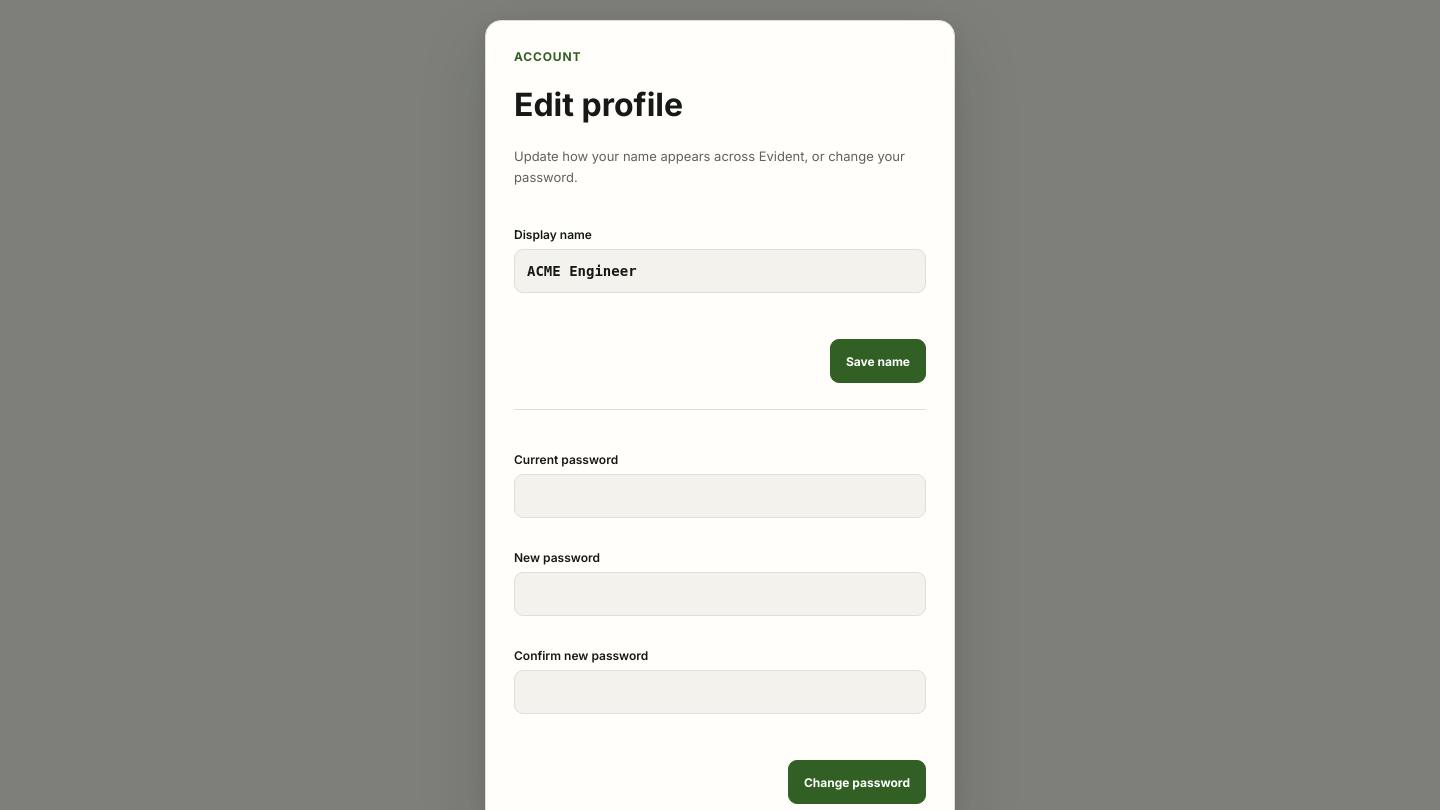
Test case: ProfileDialog › shows a local error when the new password confirmation does not match
Type "correct-horse-battery" into the password field labelled "Current password".
click(720, 496); type("correct-horse-battery")  # box [514,474,926,518]
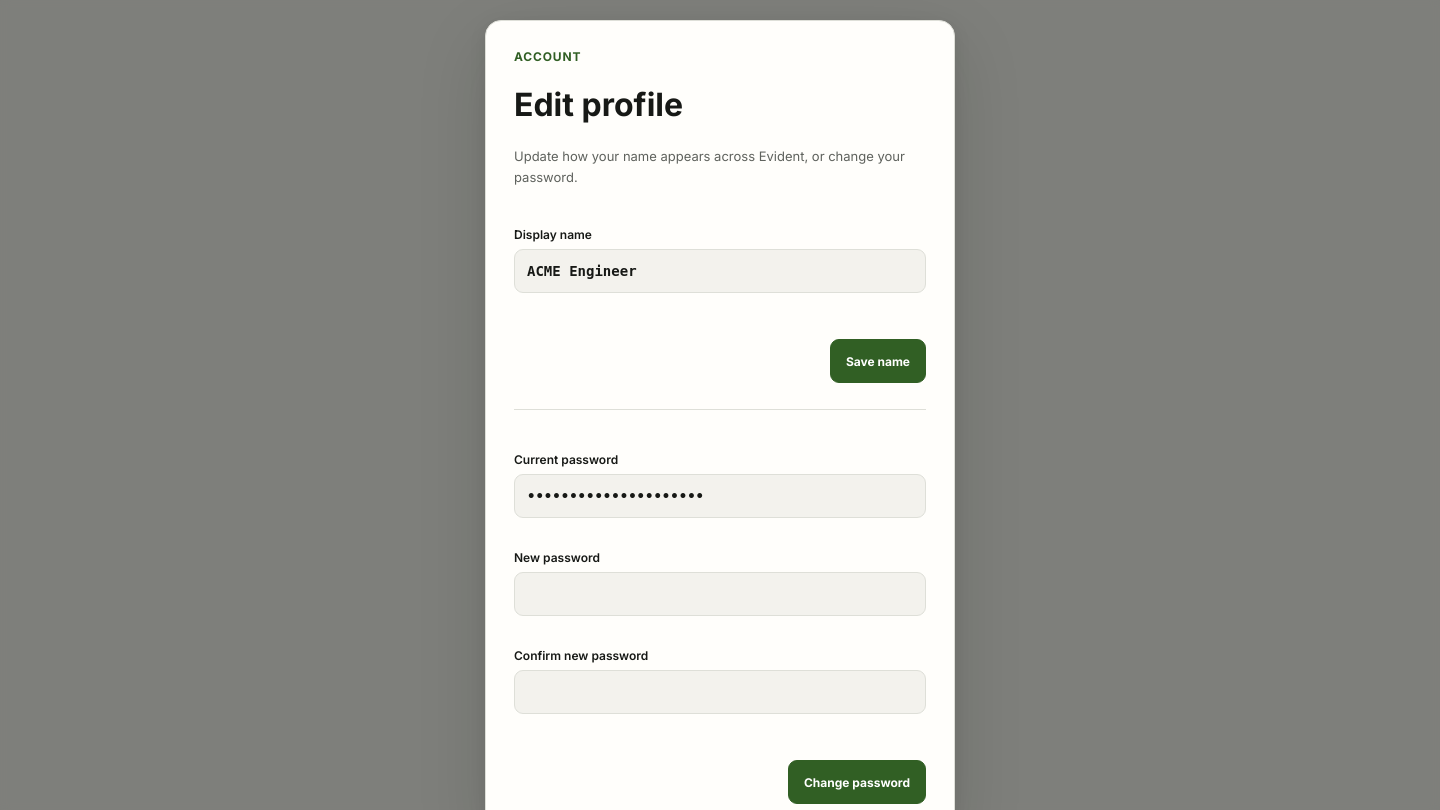
Type "new-correct-horse-battery" into the password field labelled "New password".
click(720, 594); type("new-correct-horse-battery")  # box [514,572,926,616]
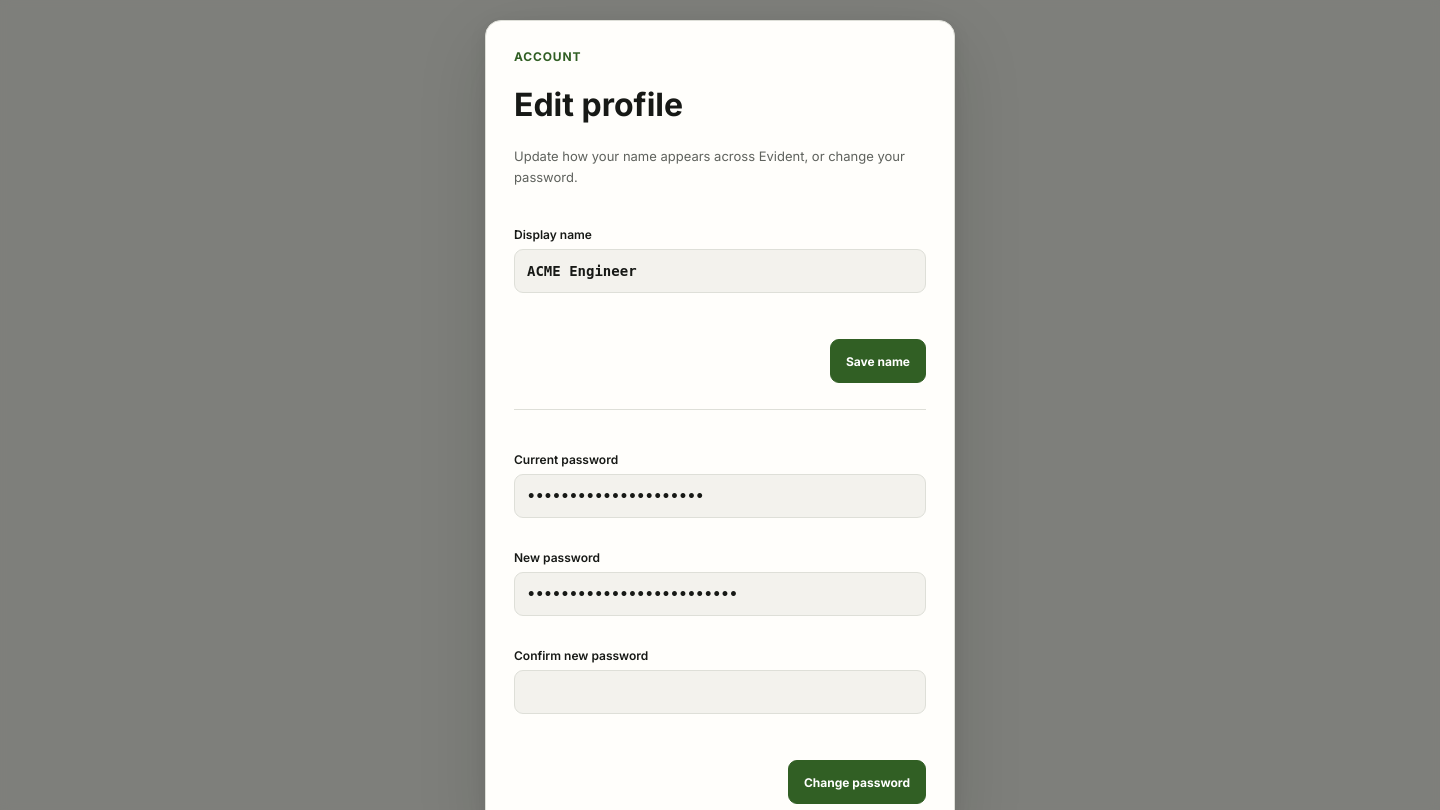
Type "does-not-match" into the password field labelled "Confirm new password".
click(720, 692); type("does-not-match")  # box [514,670,926,714]
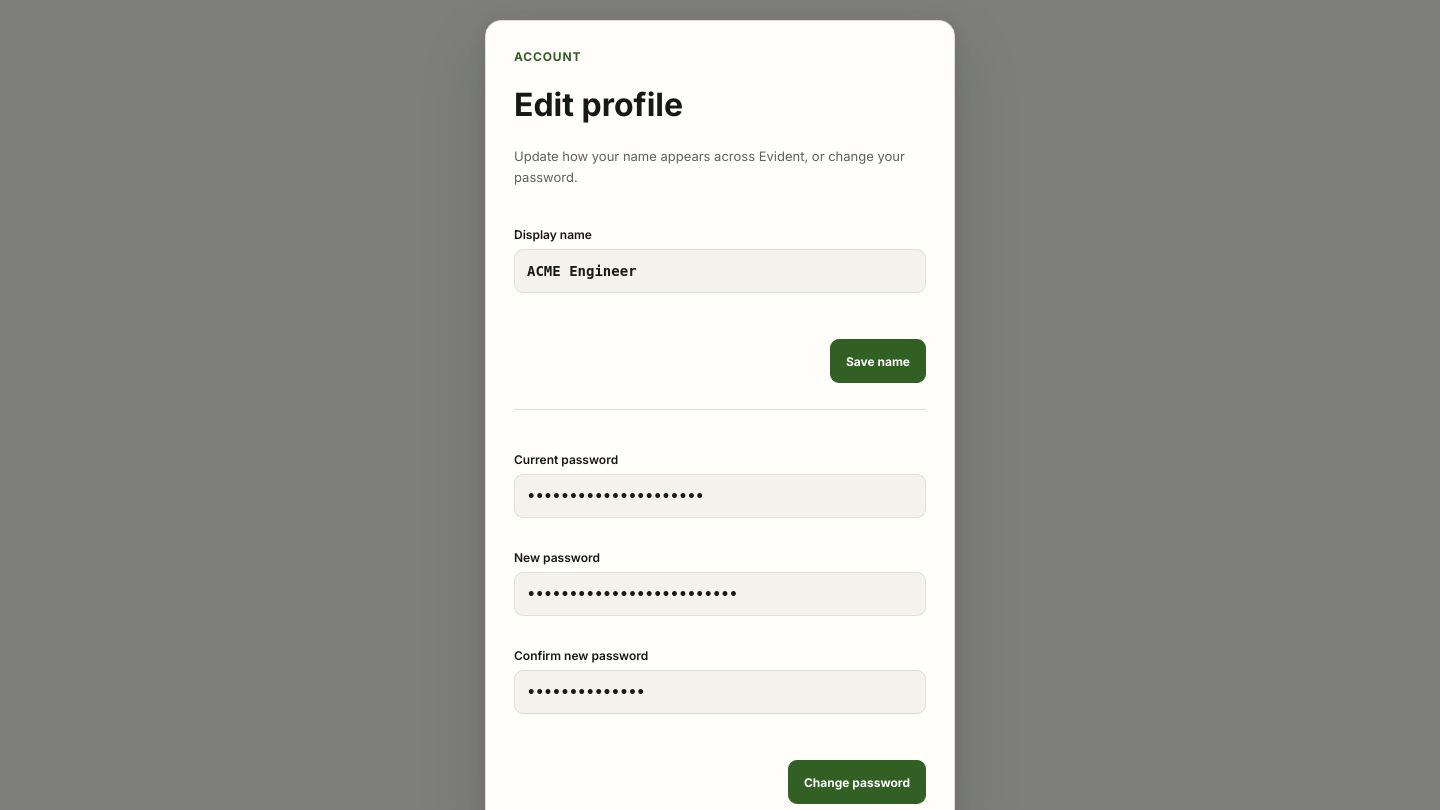
Submit the form that starts with "Current password", box [514,436,926,804]
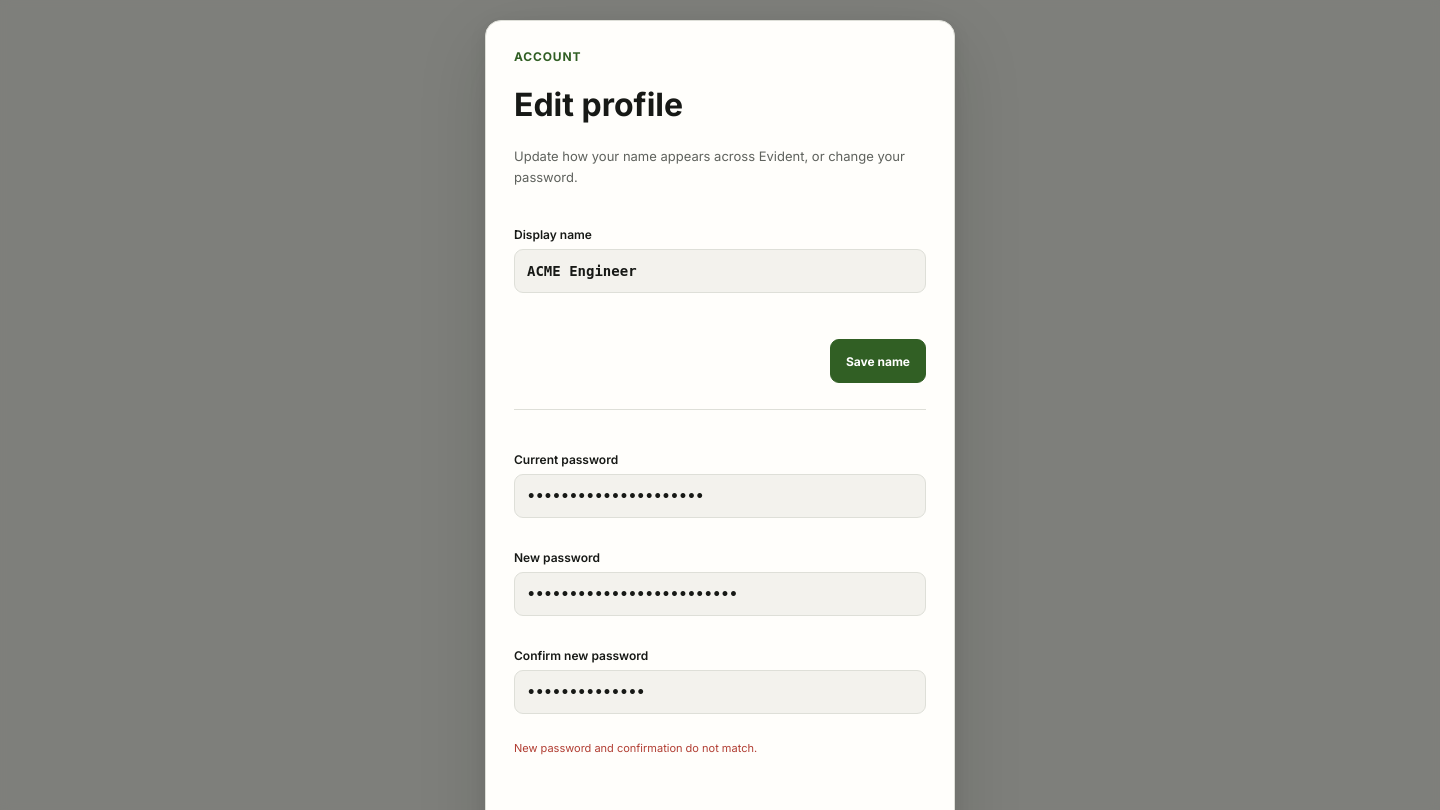
Expected: the text "do not match" is shown, [514,742,757,756]
